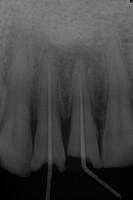Dental Caries: (54, 38, 110, 122)
